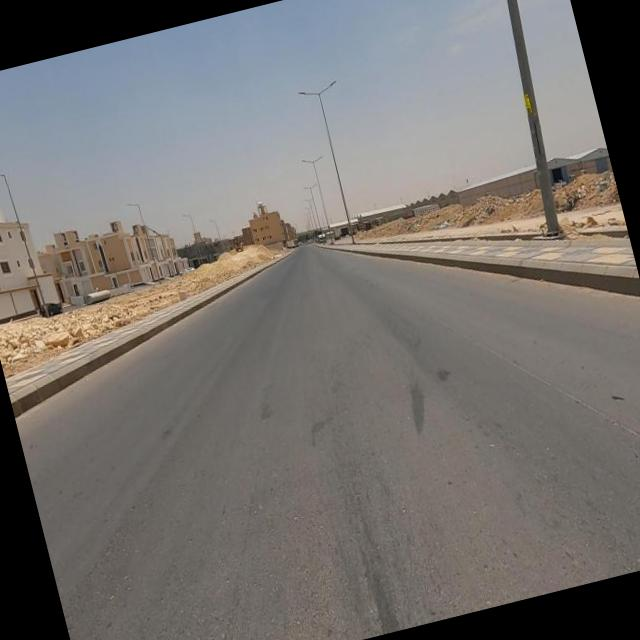debris: (453, 168, 529, 244), (412, 182, 479, 256), (558, 158, 612, 216), (576, 153, 622, 214), (546, 177, 586, 226)
